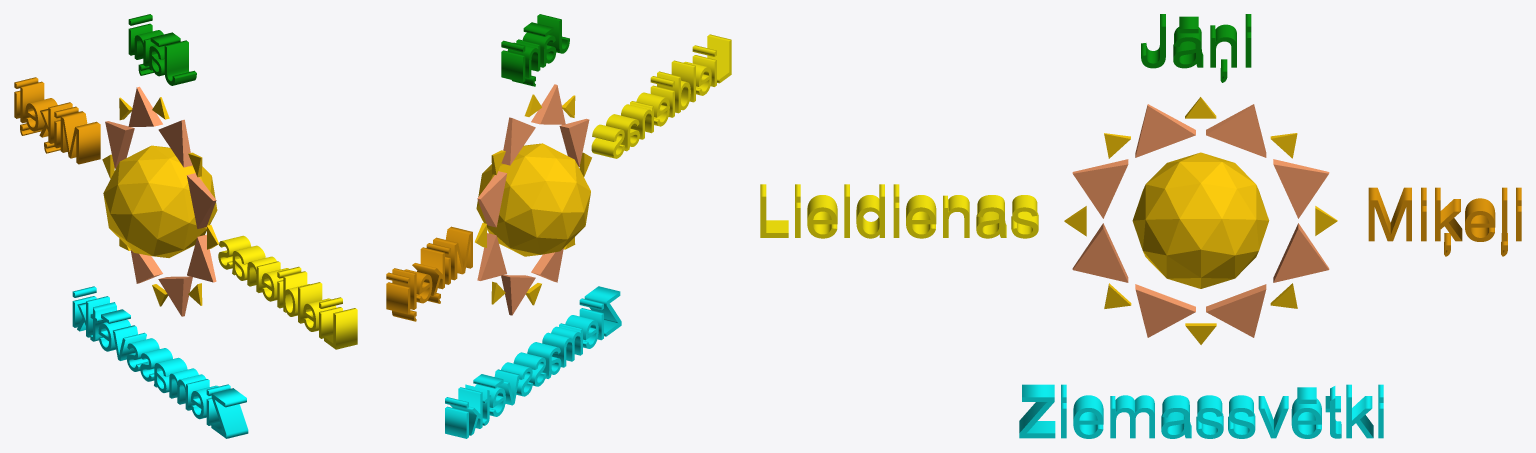
The model's file is gadaskartu-vainags.glb.
The picture shows the model from 3 angles, left to right: view 1: azimuth 30°, elevation 25°; view 2: azimuth 150°, elevation 25°; view 3: azimuth 270°, elevation 25°; orthographic projection. The views are drawn at different scales.
Parts seen in each view (by area): view 1: sun_01_Sphere, ziemassvetki, lieldienas, mikeli, jani; view 2: sun_01_Sphere, ziemassvetki, lieldienas, mikeli, jani; view 3: sun_01_Sphere, ziemassvetki, lieldienas, mikeli, jani.
Part boxes in pixels (x1,y1,x2,y2): sun_01_Sphere: (102, 86, 218, 316); ziemassvetki: (72, 286, 248, 438); lieldienas: (218, 235, 357, 349); mikeli: (14, 77, 100, 164); jani: (128, 14, 196, 85); sun_01_Sphere: (475, 84, 591, 315); ziemassvetki: (445, 286, 621, 438); lieldienas: (591, 34, 731, 158); mikeli: (386, 226, 472, 321); jani: (501, 14, 569, 86); sun_01_Sphere: (1064, 97, 1337, 344); ziemassvetki: (1019, 384, 1383, 438); lieldienas: (760, 184, 1038, 238); mikeli: (1368, 187, 1521, 256); jani: (1141, 14, 1251, 82).
Bounding box in the file's own units: 106 × 353 × 591.
